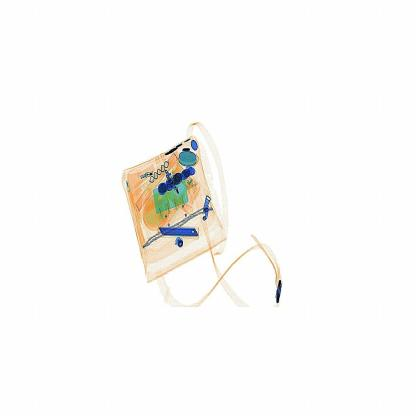pliers: (154, 219, 208, 246)
